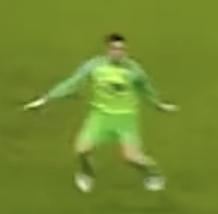goalkeeper: (17, 22, 195, 201)
